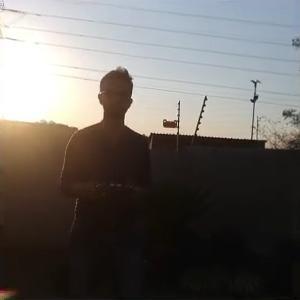follow: (50, 62, 155, 298)
